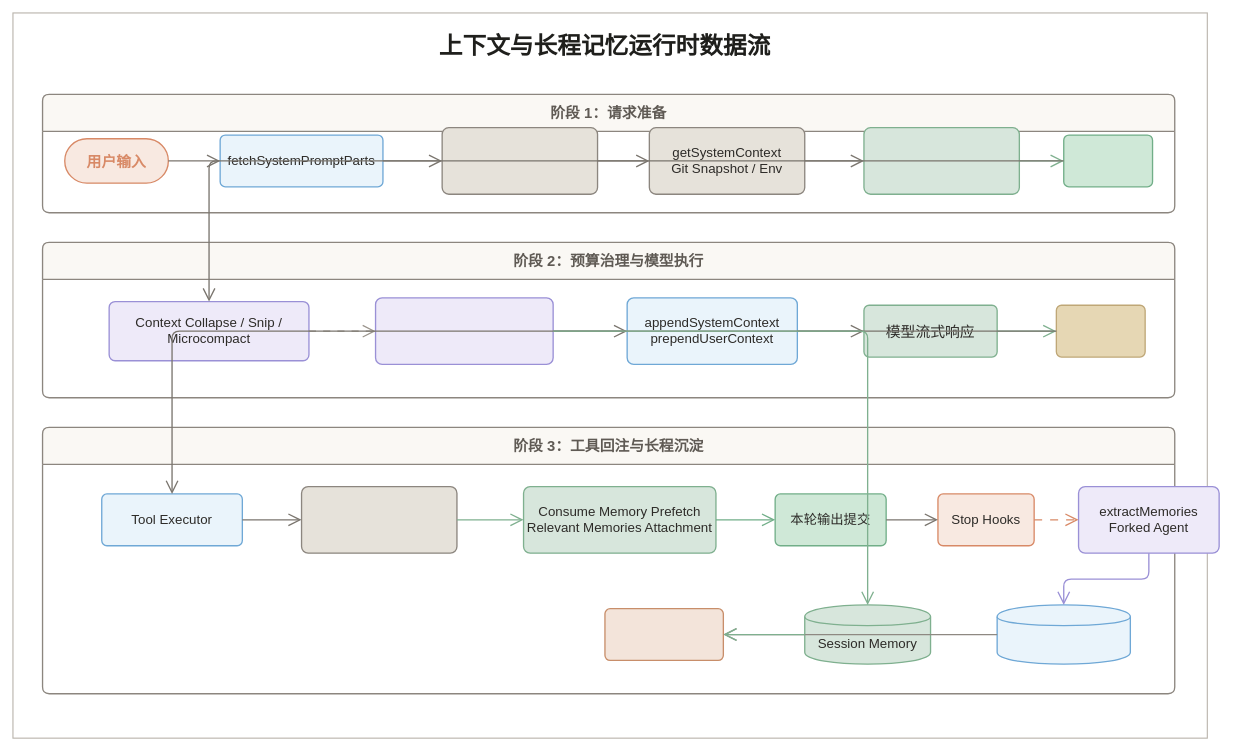
This 1233x752 diagram has some shape labels left out. The shapes that lost their labels are listed below. From the top down, each one's centre as x and y in pixels, then its label:
pixel 519 161: getUserContext CLAUDE.md / 日期
pixel 941 161: Relevant Memory Prefetch 并行启动
pixel 1108 160: Cache-safe Prefix 就绪
pixel 464 331: Auto Compact Session Memory Compact
pixel 1100 330: tool_use blocks
pixel 379 519: Tool Results File Changes Command Events
pixel 664 634: 下一轮 Query
pixel 1063 634: Auto / Team Memory
